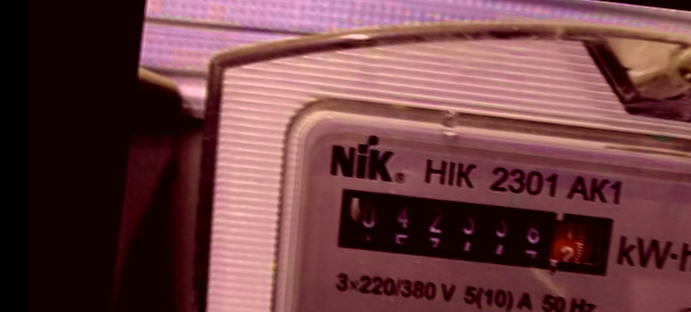0: (360, 202, 379, 231)
1: (563, 219, 578, 242)
2: (428, 205, 447, 236), (559, 244, 577, 264)
3: (492, 210, 511, 241), (460, 208, 478, 238)
4: (394, 200, 415, 231)
6: (525, 216, 546, 247)
screen: (325, 175, 628, 289)
